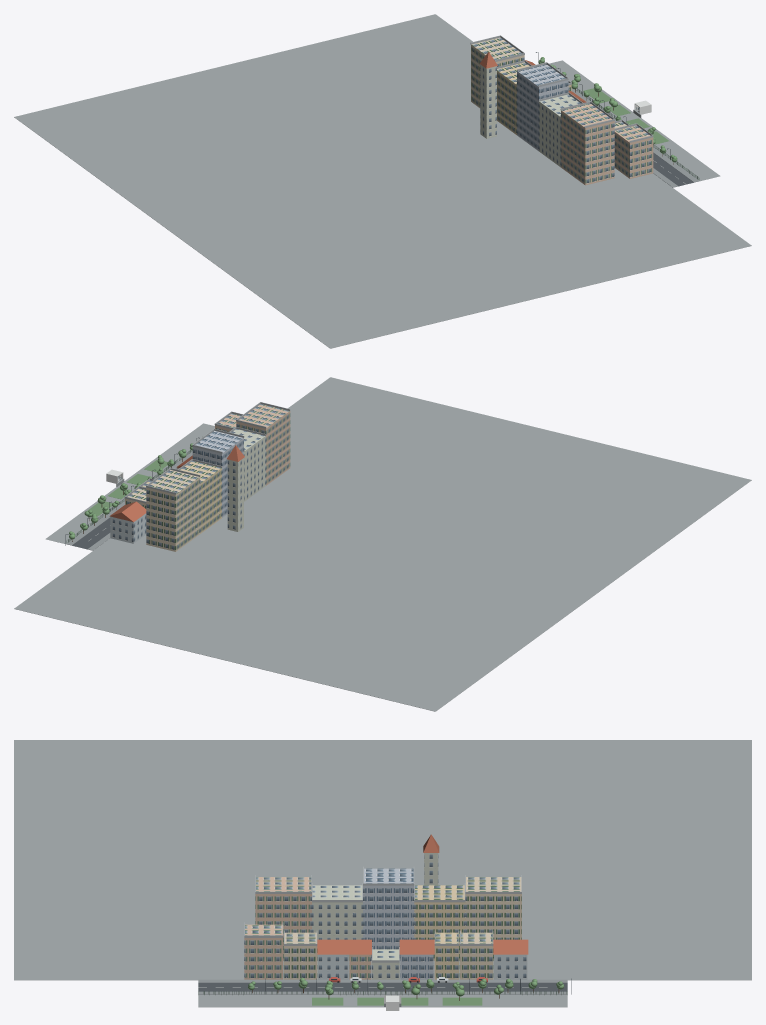
The model's file is banco.glb.
The picture shows the model from 3 angles, top to bottom: view 1: azimuth 30°, elevation 25°; view 2: azimuth 150°, elevation 25°; view 3: azimuth 270°, elevation 25°; orthographic projection. The views are drawn at different scales.
Visible parts, largest first — view 1: Ground, House20, House22, Yard, House8, House21, House24, House23, BellTower, TreeCanopies, Lawn; view 2: Ground, House24, House20, Yard, House23, House22, House21, BellTower, House7, TreeCanopies, Lawn; view 3: Ground, House22, Yard, House24, House20, Road, House21, House23, Pavements, House8, House0, House6 (+13 smaller).
Part boxes in pixels (bbox=[...]): Ground: bbox=[14, 14, 751, 348]; House20: bbox=[561, 103, 614, 185]; House22: bbox=[517, 64, 568, 151]; Yard: bbox=[549, 60, 720, 181]; House8: bbox=[614, 125, 653, 178]; House21: bbox=[539, 94, 580, 167]; House24: bbox=[471, 37, 524, 107]; House23: bbox=[497, 62, 529, 134]; BellTower: bbox=[480, 64, 496, 138]; TreeCanopies: bbox=[538, 57, 677, 162]; Lawn: bbox=[583, 88, 668, 144]; Ground: bbox=[14, 377, 751, 711]; House24: bbox=[146, 470, 199, 551]; House20: bbox=[236, 404, 290, 485]; Yard: bbox=[45, 423, 214, 543]; House23: bbox=[180, 461, 221, 533]; House22: bbox=[192, 431, 243, 517]; House21: bbox=[231, 429, 265, 501]; BellTower: bbox=[227, 458, 243, 531]; House7: bbox=[110, 513, 146, 543]; TreeCanopies: bbox=[69, 443, 193, 539]; Lawn: bbox=[87, 459, 167, 516]; Ground: bbox=[14, 740, 751, 980]; House22: bbox=[363, 868, 414, 960]; Yard: bbox=[198, 995, 567, 1007]; House24: bbox=[465, 877, 521, 960]; House20: bbox=[255, 877, 311, 960]; Road: bbox=[198, 983, 567, 991]; House21: bbox=[312, 885, 362, 960]; House23: bbox=[414, 885, 465, 960]; Pavements: bbox=[198, 979, 567, 994]; House8: bbox=[244, 924, 283, 979]; House0: bbox=[284, 932, 317, 979]; House6: bbox=[460, 932, 493, 979].
Size of the model in its own units: 228 by 38.11 by 260.
Materials: 74 (7 with a texture image).
